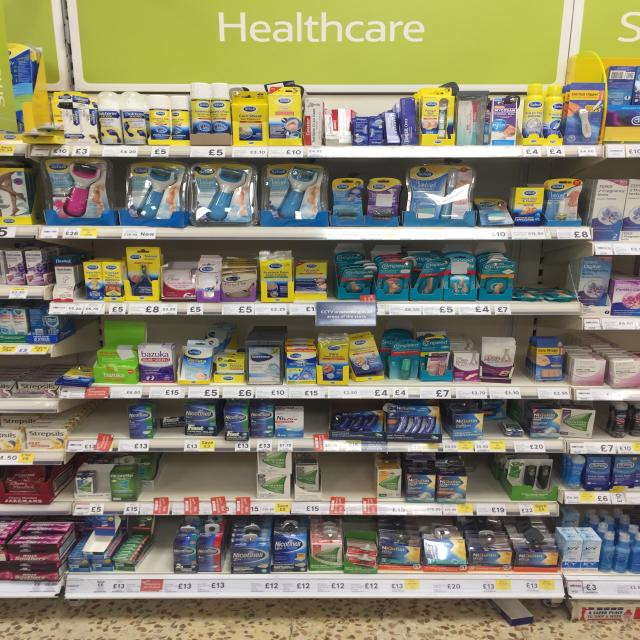void: (144, 518, 174, 594), (470, 456, 504, 514), (320, 452, 350, 515), (160, 456, 190, 518), (224, 456, 255, 515), (193, 457, 223, 516), (345, 455, 372, 514), (66, 398, 93, 452), (95, 400, 122, 452)
